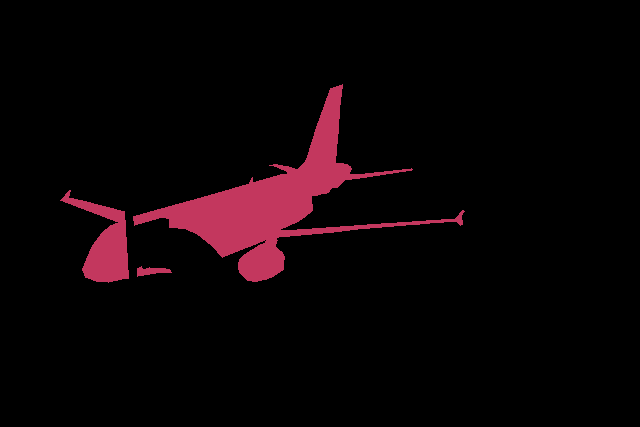Airplane: (60, 84, 464, 282)
